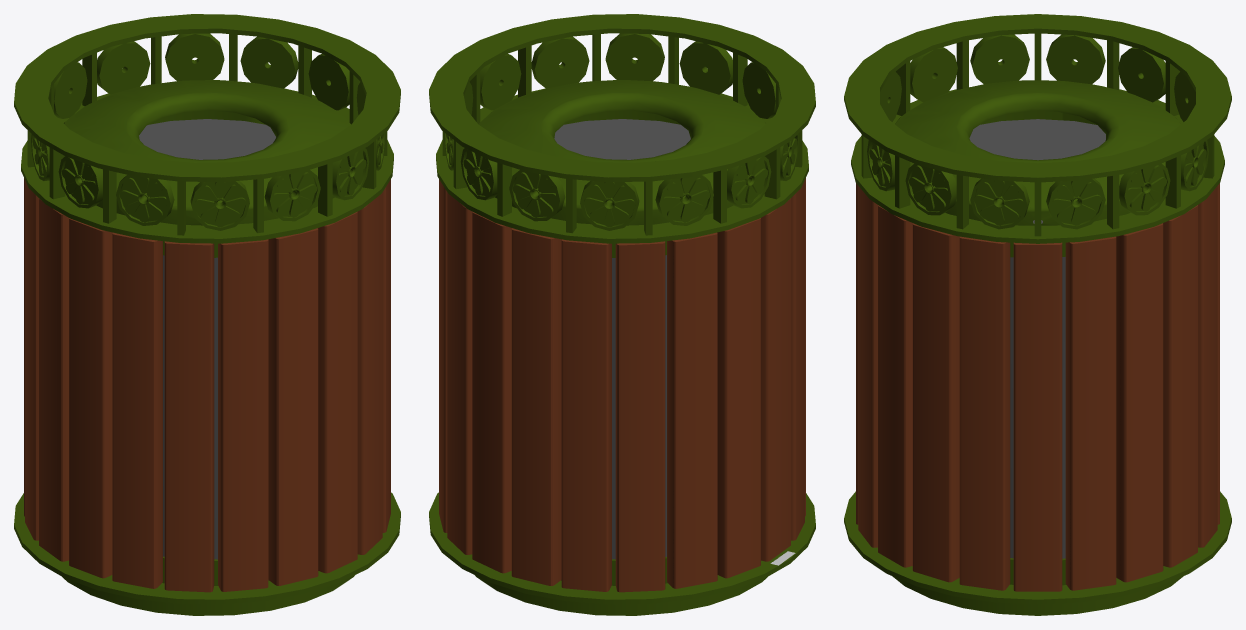
3 views of the same model, side by side, from view 1: azimuth 30°, elevation 25°; view 2: azimuth 150°, elevation 25°; view 3: azimuth 270°, elevation 25° (orthographic).
Visible parts, largest first — view 1: mesh1_mesh1-geometry, mesh3_mesh3-geometry, mesh57_mesh57-geometry, mesh20_mesh20-geometry, mesh52_mesh52-geometry, mesh66_mesh66-geometry, mesh35_mesh35-geometry, mesh68_mesh68-geometry, mesh13_mesh13-geometry, mesh64_mesh64-geometry; view 2: mesh1_mesh1-geometry, mesh3_mesh3-geometry, mesh57_mesh57-geometry, mesh20_mesh20-geometry, mesh52_mesh52-geometry, mesh66_mesh66-geometry, mesh68_mesh68-geometry, mesh35_mesh35-geometry, mesh13_mesh13-geometry, mesh64_mesh64-geometry; view 3: mesh1_mesh1-geometry, mesh3_mesh3-geometry, mesh57_mesh57-geometry, mesh20_mesh20-geometry, mesh52_mesh52-geometry, mesh68_mesh68-geometry, mesh66_mesh66-geometry, mesh35_mesh35-geometry, mesh13_mesh13-geometry, mesh64_mesh64-geometry.
Part boxes in pixels (x1=…): mesh1_mesh1-geometry: x1=24, y1=178, x2=390, y2=592; mesh3_mesh3-geometry: x1=31, y1=33, x2=385, y2=230; mesh57_mesh57-geometry: x1=14, y1=14, x2=400, y2=182; mesh20_mesh20-geometry: x1=64, y1=80, x2=350, y2=225; mesh52_mesh52-geometry: x1=21, y1=88, x2=393, y2=243; mesh66_mesh66-geometry: x1=27, y1=34, x2=387, y2=235; mesh35_mesh35-geometry: x1=14, y1=492, x2=400, y2=604; mesh68_mesh68-geometry: x1=139, y1=119, x2=275, y2=559; mesh13_mesh13-geometry: x1=62, y1=575, x2=354, y2=615; mesh64_mesh64-geometry: x1=149, y1=110, x2=265, y2=257; mesh1_mesh1-geometry: x1=439, y1=178, x2=805, y2=592; mesh3_mesh3-geometry: x1=444, y1=33, x2=798, y2=230; mesh57_mesh57-geometry: x1=429, y1=14, x2=815, y2=182; mesh20_mesh20-geometry: x1=479, y1=80, x2=765, y2=225; mesh52_mesh52-geometry: x1=436, y1=88, x2=808, y2=243; mesh66_mesh66-geometry: x1=442, y1=34, x2=802, y2=235; mesh68_mesh68-geometry: x1=554, y1=119, x2=690, y2=559; mesh35_mesh35-geometry: x1=429, y1=492, x2=815, y2=604; mesh13_mesh13-geometry: x1=475, y1=575, x2=767, y2=615; mesh64_mesh64-geometry: x1=564, y1=110, x2=680, y2=257; mesh1_mesh1-geometry: x1=856, y1=183, x2=1219, y2=591; mesh3_mesh3-geometry: x1=867, y1=34, x2=1208, y2=229; mesh57_mesh57-geometry: x1=844, y1=14, x2=1231, y2=182; mesh20_mesh20-geometry: x1=895, y1=80, x2=1180, y2=225; mesh52_mesh52-geometry: x1=851, y1=89, x2=1224, y2=243; mesh68_mesh68-geometry: x1=969, y1=119, x2=1105, y2=558; mesh66_mesh66-geometry: x1=861, y1=33, x2=1214, y2=236; mesh35_mesh35-geometry: x1=844, y1=491, x2=1231, y2=604; mesh13_mesh13-geometry: x1=892, y1=576, x2=1183, y2=615; mesh64_mesh64-geometry: x1=980, y1=110, x2=1096, y2=257.
Size of the model in its own units: 0.5232 by 0.6727 by 0.5232.
